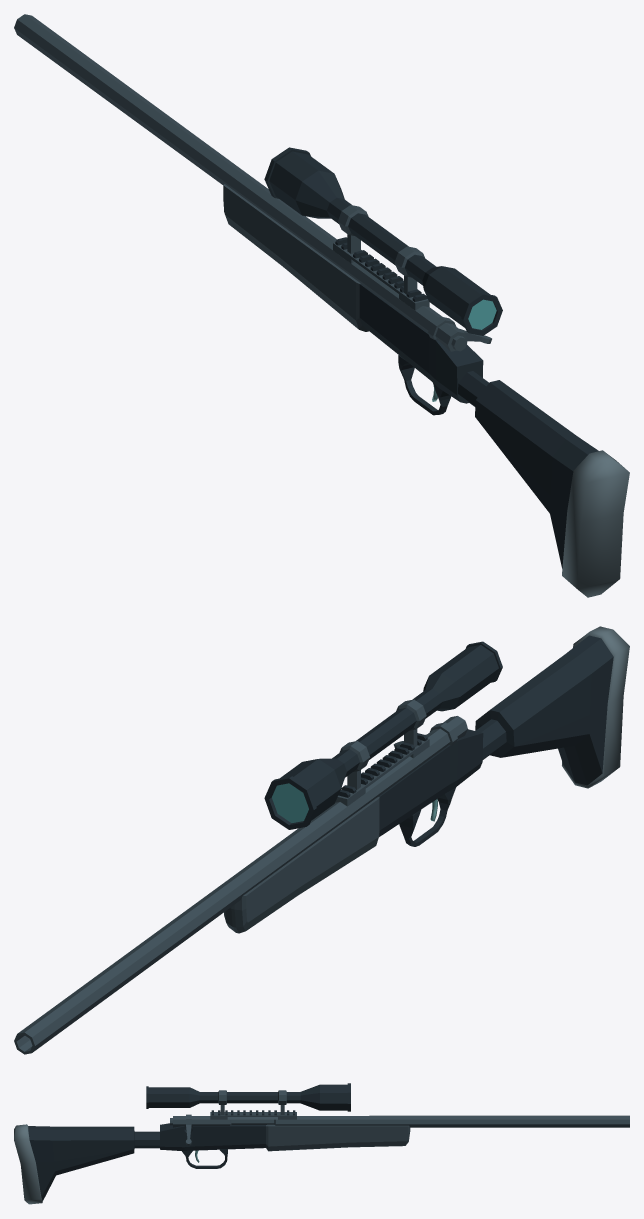
File: guardiao.glb
3 renders of one model, top to bottom at view 1: azimuth 30°, elevation 25°; view 2: azimuth 150°, elevation 25°; view 3: azimuth 270°, elevation 25°, orthographic. The views are drawn at different scales.
Parts seen in each view (by area): view 1: guardiao; view 2: guardiao; view 3: guardiao.
Part boxes in pixels (<box>): guardiao: <box>14,14,629,597</box>; guardiao: <box>14,626,629,1054</box>; guardiao: <box>14,1083,629,1204</box>.
Size of the model in its own units: 0.1056 by 0.3101 by 1.46.
